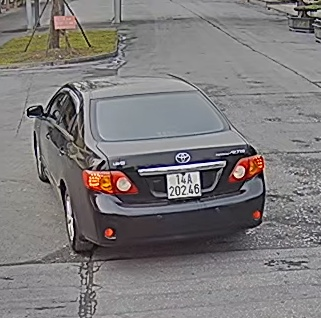vehicle plate: (162, 166, 203, 200)
